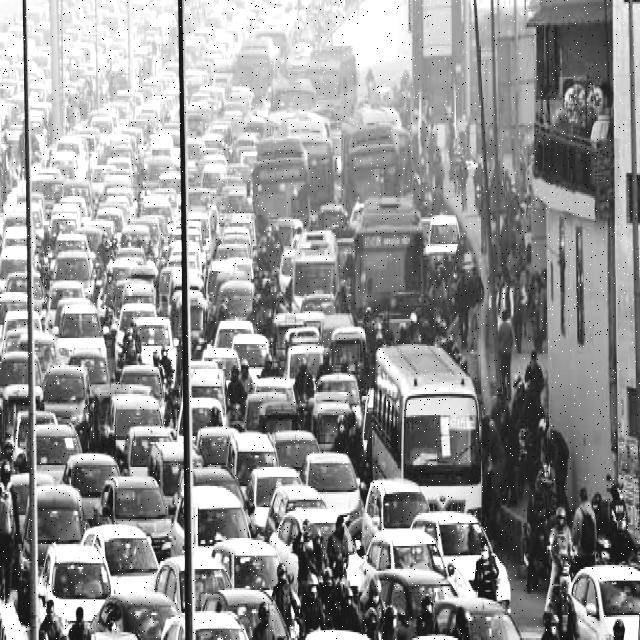Ambulance: (287, 234, 341, 316), (294, 239, 338, 299)
